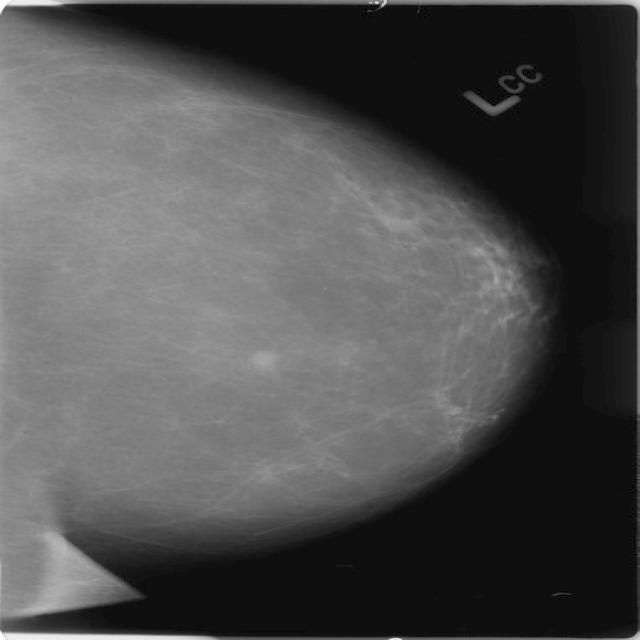tumour: (248, 348, 276, 371)
